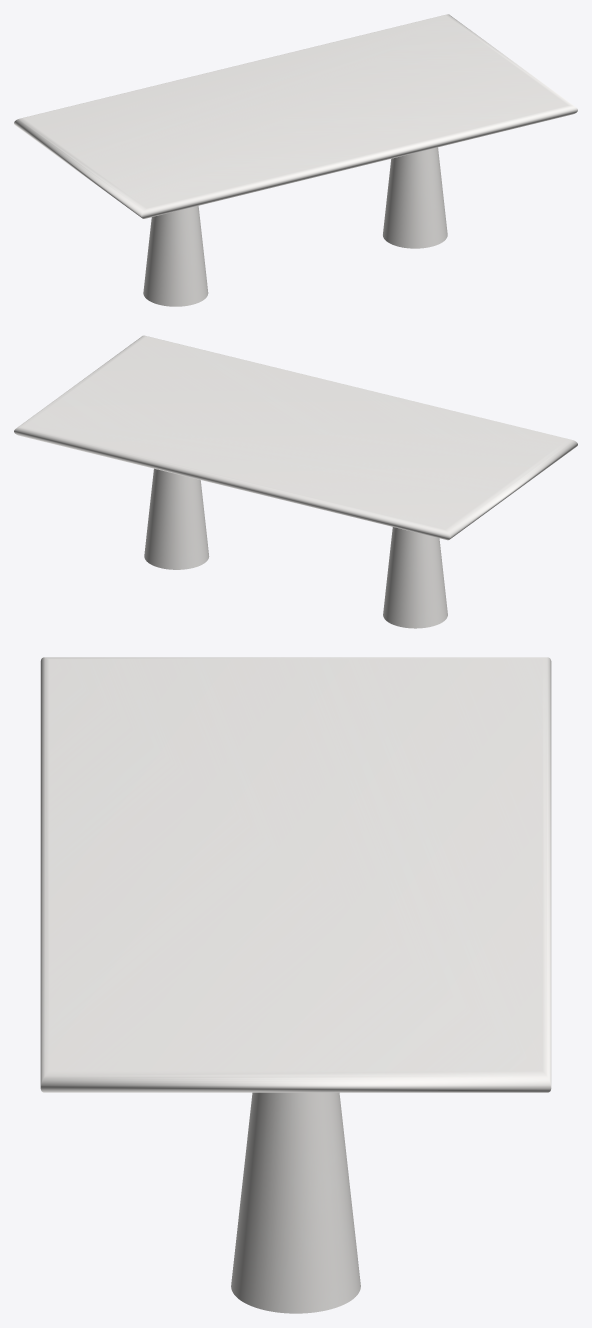
The model's file is purewhite_recta_round_pebble.glb.
The picture shows the model from 3 angles, top to bottom: view 1: azimuth 30°, elevation 25°; view 2: azimuth 150°, elevation 25°; view 3: azimuth 270°, elevation 25°; orthographic projection. The views are drawn at different scales.
Visible parts, largest first — view 1: round_recta, pebble; view 2: round_recta, pebble; view 3: round_recta, pebble.
Boxes of the visible parts, bbox=[...] form: round_recta: bbox=[14, 14, 577, 218]; pebble: bbox=[143, 147, 447, 306]; round_recta: bbox=[14, 335, 577, 540]; pebble: bbox=[144, 468, 447, 628]; round_recta: bbox=[40, 657, 551, 1092]; pebble: bbox=[231, 1092, 360, 1313].
Bounding box in the file's own units: 7.5 × 2.5 × 3.8.
Materials: 1 (1 with a texture image).
